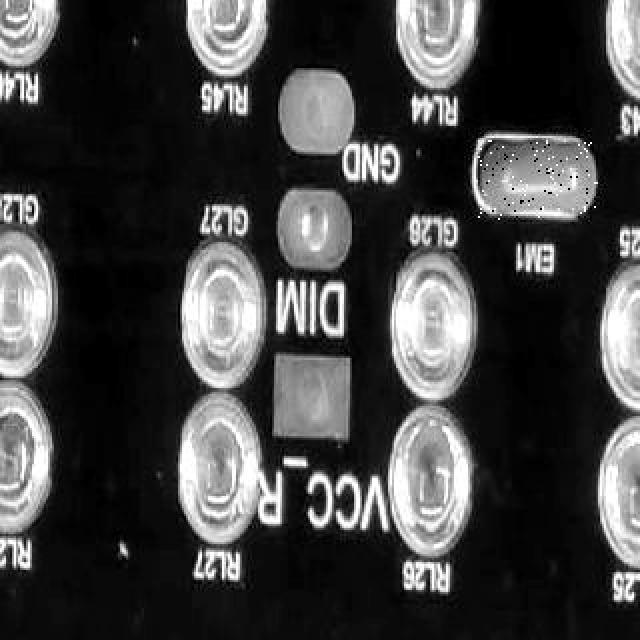EMC filter: (476, 140, 600, 220)
